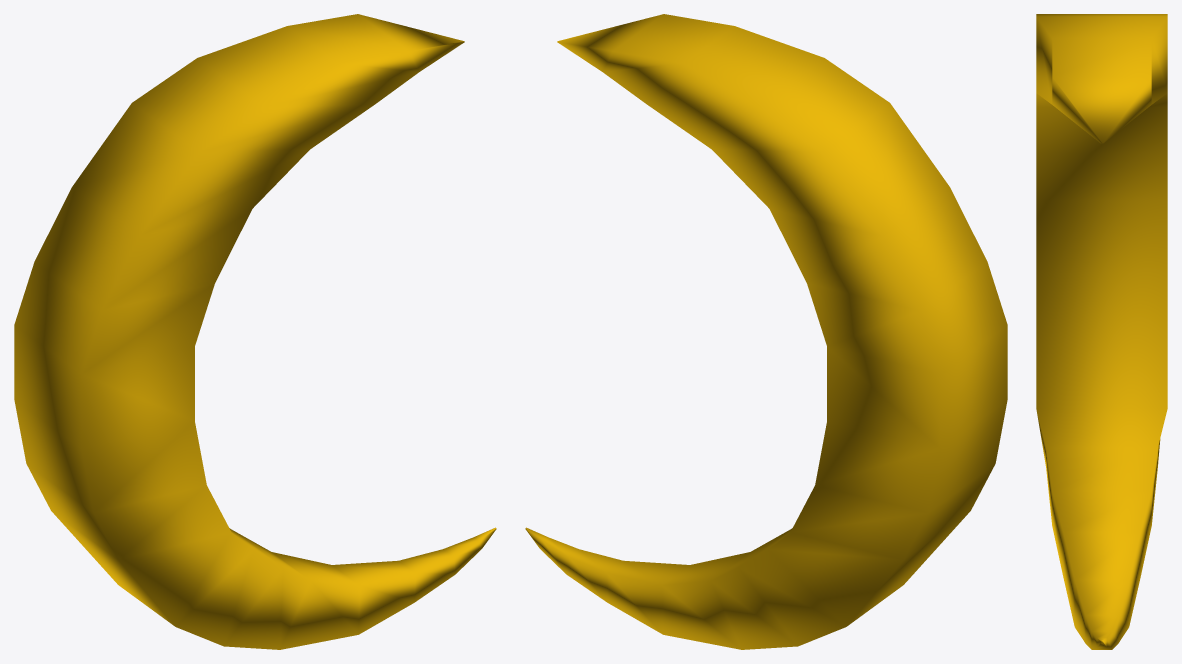
The model's file is moon.glb.
The picture shows the model from 3 angles, left to right: view 1: azimuth 30°, elevation 25°; view 2: azimuth 150°, elevation 25°; view 3: azimuth 270°, elevation 25°; orthographic projection. The views are drawn at different scales.
Parts seen in each view (by area): view 1: Moon; view 2: Moon; view 3: Moon.
Boxes of the visible parts, <box> form: Moon: <box>14,14,496,649</box>; Moon: <box>525,14,1007,649</box>; Moon: <box>1036,14,1167,649</box>.
Size of the model in its own units: 3.67 by 4.6 by 0.9555.
